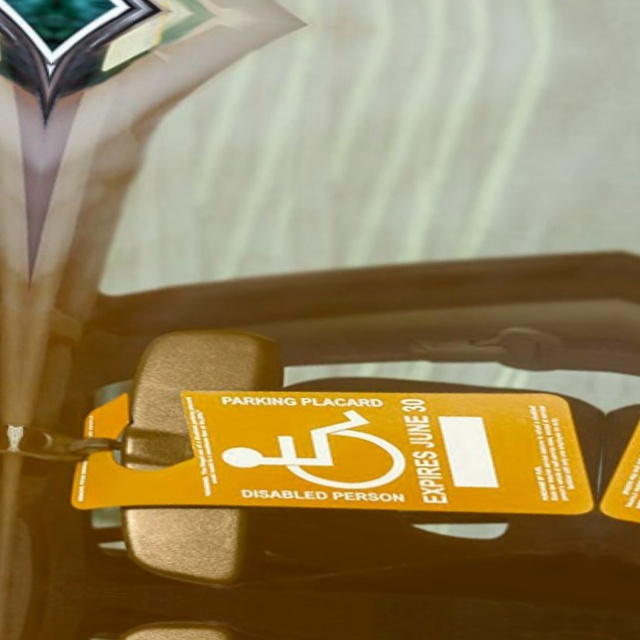ISA: (209, 388, 419, 505)
